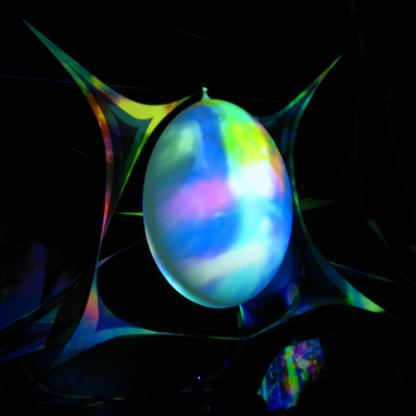Ball: (143, 89, 296, 310)
